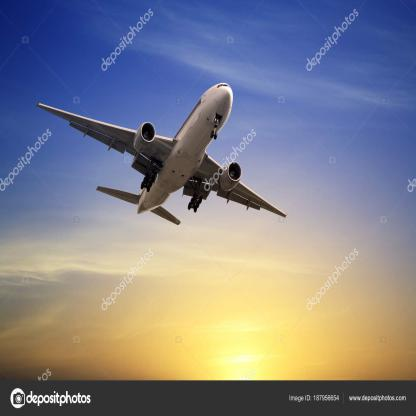CIV_Plane: (29, 80, 287, 233)
